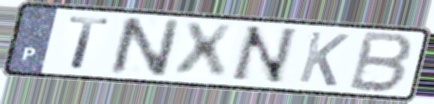B: (345, 29, 418, 96)
K: (295, 29, 352, 89)
N: (107, 15, 184, 79), (225, 24, 300, 87)
T: (66, 15, 114, 72)
X: (172, 21, 237, 81)
